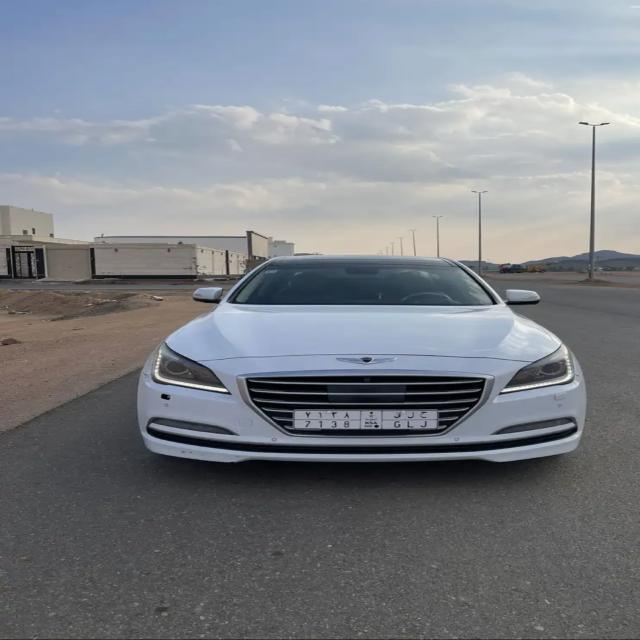license_plate: (293, 410, 440, 430)
